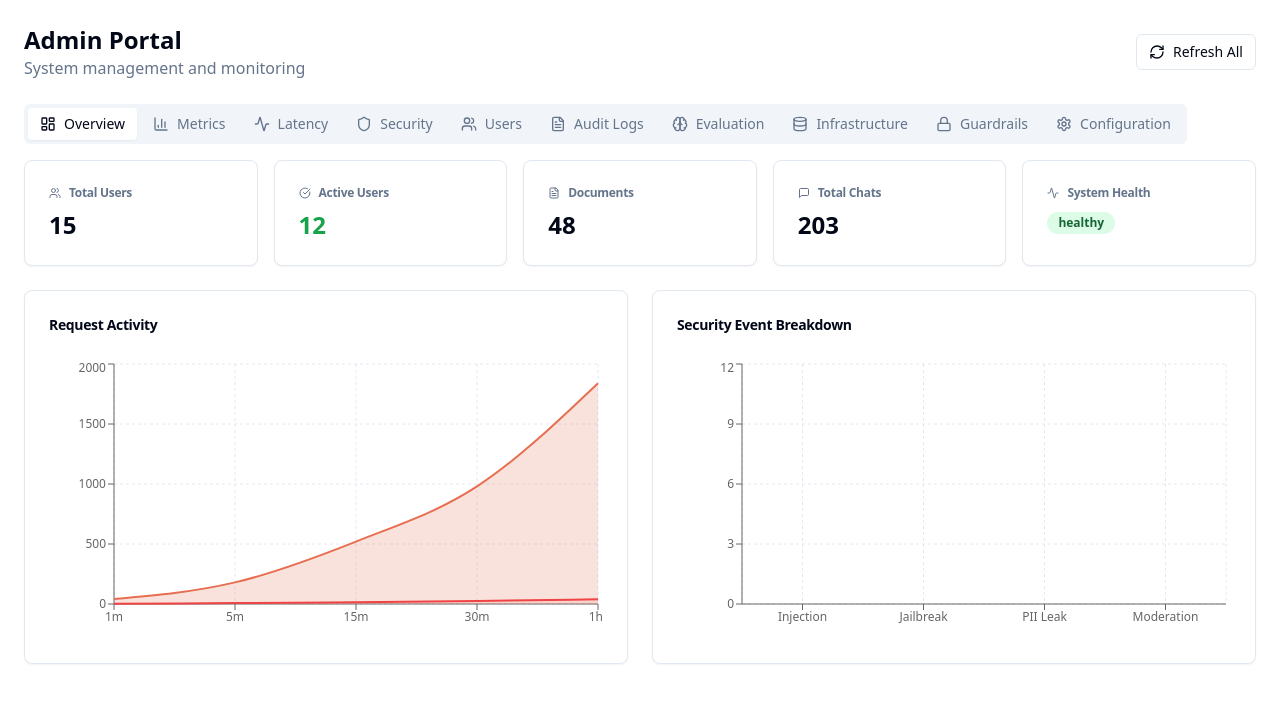
it: AdminPage › users tab renders
Check: the heading "Total Users" is shown, box [49,184,132,201]
Click the tab "Users".
click(491, 124)  # box [449,108,534,140]
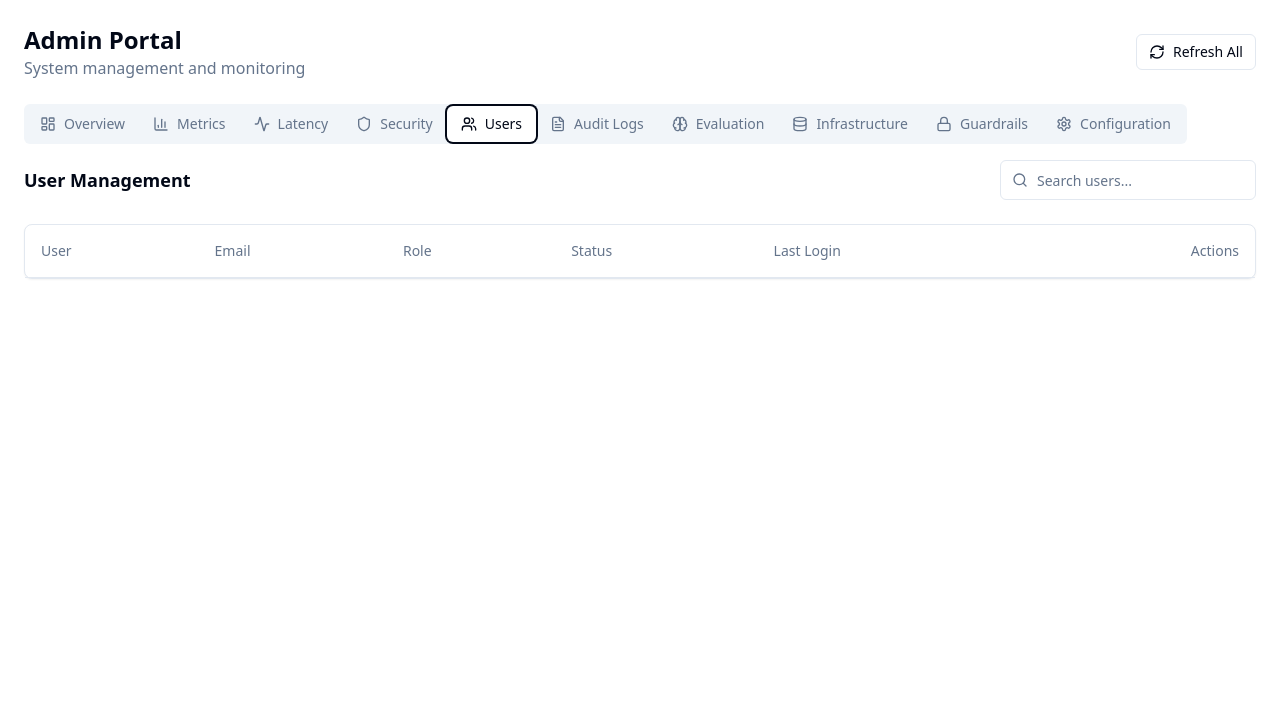
Check: the heading "User Management" is shown, box [24,166,191,194]
Check: the field with placeholder "Search users..." is shown, box [1000,160,1256,200]
